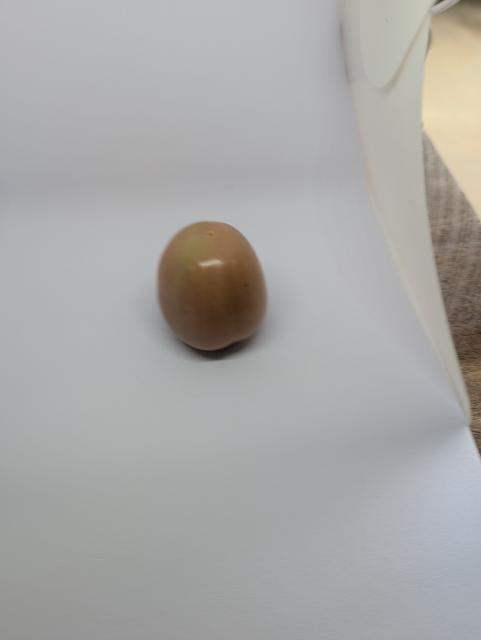turning: (152, 212, 277, 362)
